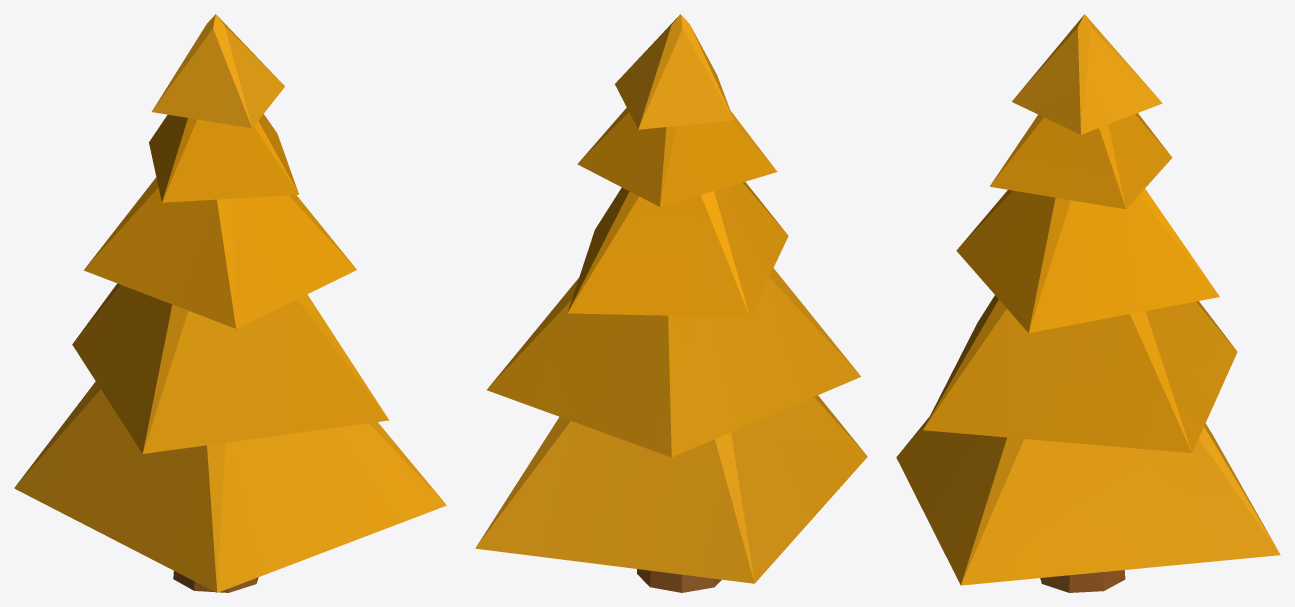
File: tree_4_yellow.fbx
3 views of the same model, side by side, from view 1: azimuth 30°, elevation 25°; view 2: azimuth 150°, elevation 25°; view 3: azimuth 270°, elevation 25° (orthographic).
Visible parts, largest first — view 1: tree_4_yellow; view 2: tree_4_yellow; view 3: tree_4_yellow.
Part boxes in pixels (bbox=[...]): tree_4_yellow: bbox=[14, 14, 446, 592]; tree_4_yellow: bbox=[475, 14, 867, 592]; tree_4_yellow: bbox=[896, 14, 1280, 592].
Size of the model in its own units: 358 by 623 by 387.
